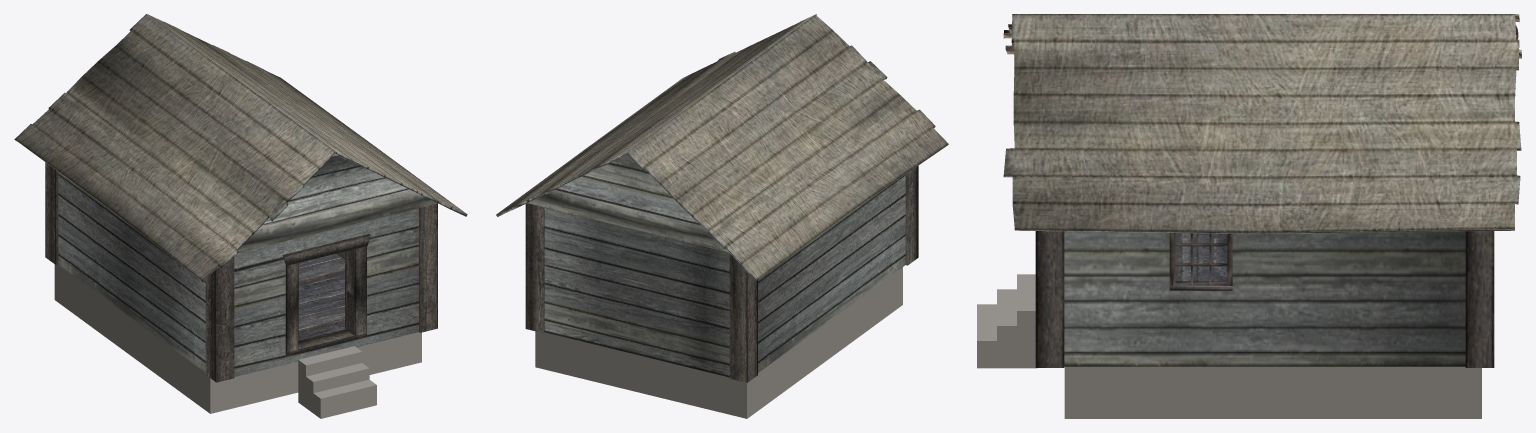
File: old-hut.access-v8.lod0.glb
The picture shows the model from 3 angles, left to right: view 1: azimuth 30°, elevation 25°; view 2: azimuth 150°, elevation 25°; view 3: azimuth 270°, elevation 25°; orthographic projection. The views are drawn at different scales.
Parts seen in each view (by area): view 1: hut_T_hUT_0, Walkable floors and stairs (×2); view 2: hut_T_hUT_0, Walkable floors and stairs; view 3: hut_T_hUT_0, Walkable floors and stairs (×2).
Part boxes in pixels (x1,y1,x2,y2): hut_T_hUT_0: [14, 14, 467, 382]; Walkable floors and stairs (×2): [54, 264, 421, 418]; hut_T_hUT_0: [496, 14, 948, 382]; Walkable floors and stairs: [535, 267, 902, 418]; hut_T_hUT_0: [1003, 14, 1521, 367]; Walkable floors and stairs (×2): [977, 274, 1481, 418].
Bounding box in the file's own units: 6.25 × 5.58 × 8.2.
Materials: 3 (1 with a texture image).
